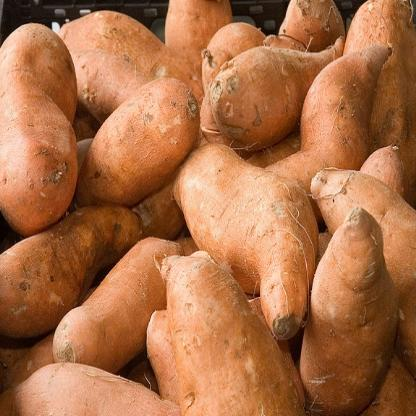---: (166, 135, 314, 338), (0, 0, 82, 228), (90, 73, 211, 218), (203, 50, 344, 142)
